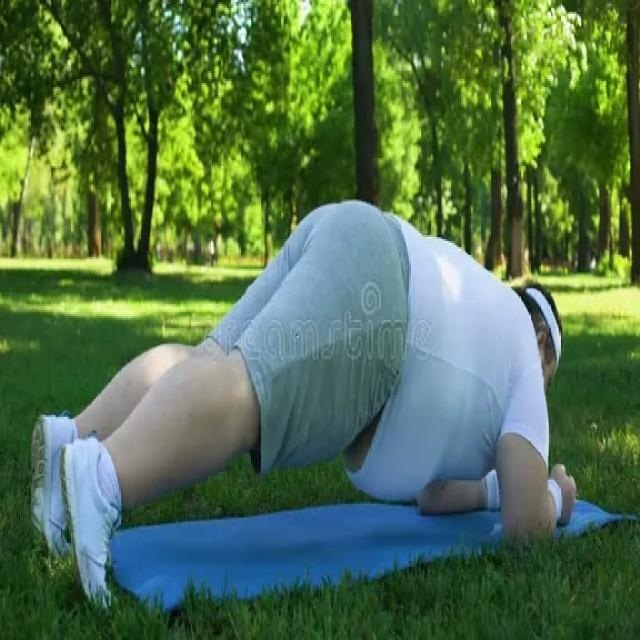plank: (15, 190, 580, 616)
